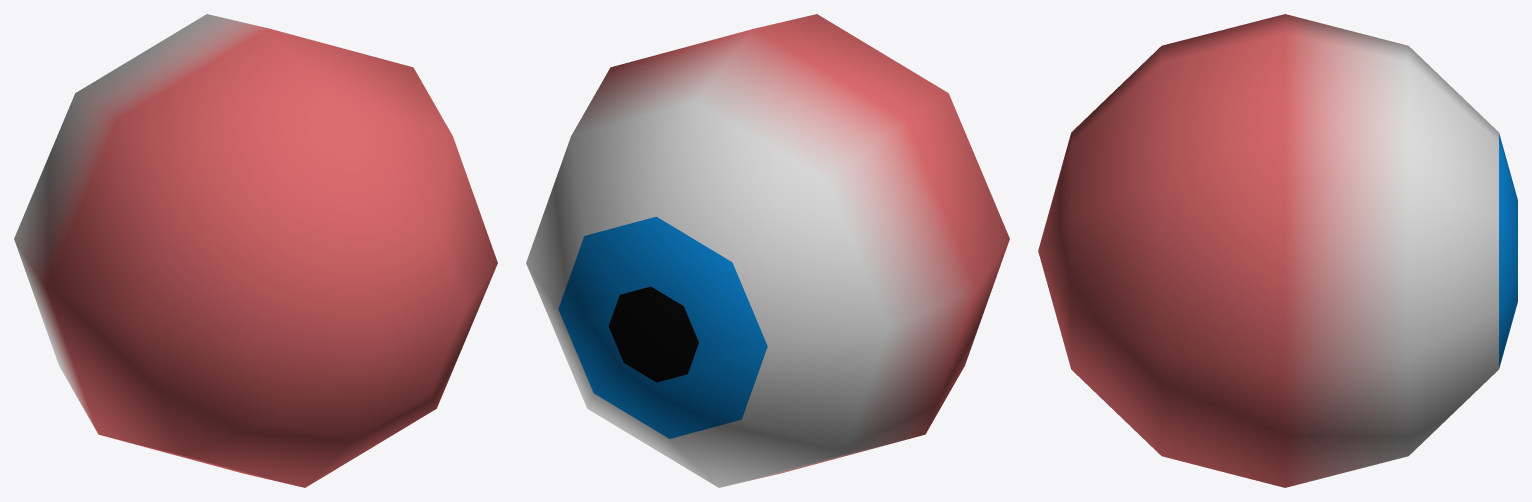
File: Eye.fbx
3 renders of one model, left to right at view 1: azimuth 30°, elevation 25°; view 2: azimuth 150°, elevation 25°; view 3: azimuth 270°, elevation 25°, orthographic.
Parts seen in each view (by area): view 1: Eye; view 2: Eye; view 3: Eye.
Part boxes in pixels (left/top/right/bottom): Eye: left=14, top=14, right=497, bottom=487; Eye: left=526, top=14, right=1009, bottom=487; Eye: left=1038, top=14, right=1517, bottom=487.
Bounding box in the file's own units: 1 × 1 × 0.9743.
